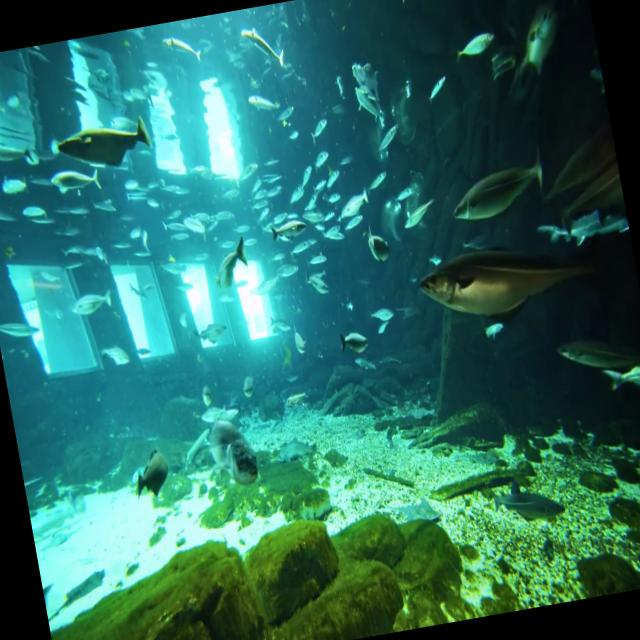fish: (412, 222, 612, 350), (525, 113, 625, 221), (441, 147, 555, 234), (484, 0, 571, 103), (48, 106, 158, 178), (546, 315, 640, 397), (126, 431, 178, 514), (233, 10, 289, 86), (203, 223, 258, 296), (250, 198, 322, 251), (448, 16, 504, 74), (62, 276, 120, 328), (46, 154, 110, 201), (412, 50, 452, 114), (238, 78, 286, 128), (153, 29, 204, 74), (395, 188, 439, 235), (346, 76, 382, 132), (358, 215, 392, 272), (333, 184, 375, 228), (332, 314, 372, 358), (94, 336, 130, 380), (368, 117, 404, 154), (363, 293, 396, 327), (16, 199, 50, 230), (304, 107, 331, 145), (290, 157, 318, 191), (0, 171, 29, 200)
